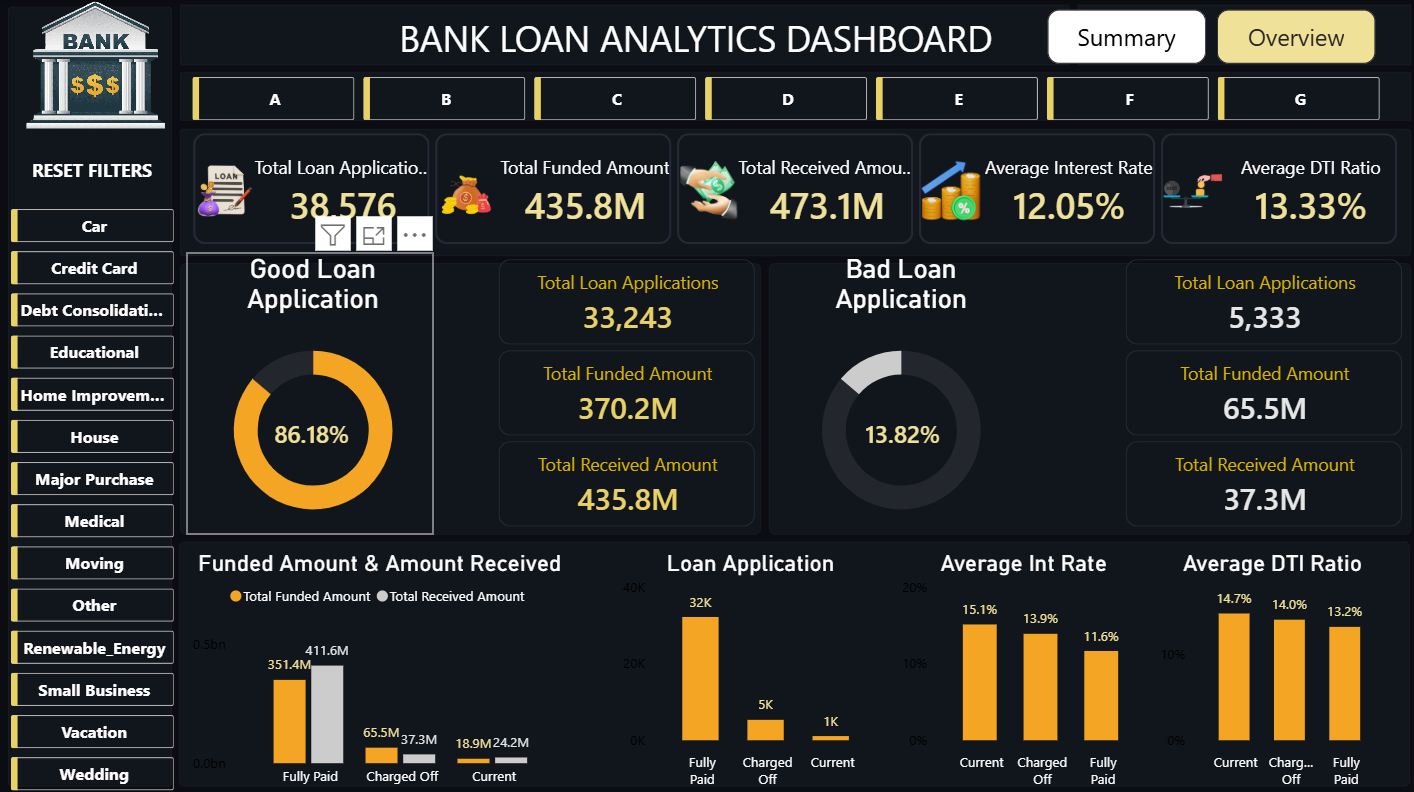

The dashboard page shown, as its layout file describes it:
{"tool":"powerbi","page":{"name":"Summary","canvas":[1280,720],"ordinal":0},"visuals":[{"type":"cardVisual","fields":{"Data":["financial_loan.Total Loan Applications","financial_loan.Total Funded Amount","financial_loan.Total Received Amount","financial_loan.Average Interest Rate","financial_loan.Average DTI Ratio"]},"box":[169.6,115.1,1100.3,112.2],"z":0},{"type":"donutChart","title":"Good Loan Application","fields":{"Category":["financial_loan.Good vs Bad Loan"],"Y":["financial_loan.Total Loan Applications"]},"box":[169.6,228.6,222.6,254.4],"z":1000},{"type":"donutChart","title":"Bad Loan Application","fields":{"Category":["financial_loan.Good vs Bad Loan"],"Y":["financial_loan.Total Loan Applications"]},"box":[701.1,228.6,222.6,254.4],"z":2000},{"type":"cardVisual","fields":{"Data":["financial_loan.Good Loan %"]},"box":[231.7,361.9,101.5,56],"z":3000},{"type":"cardVisual","fields":{"Data":["financial_loan.Bad Loan %"]},"box":[763.2,361.9,101.5,56],"z":4000},{"type":"cardVisual","fields":{"Data":["financial_loan.Total Loan Applications","financial_loan.Total Funded Amount","financial_loan.Total Received Amount"],"Rows":["financial_loan.Good vs Bad Loan"]},"box":[404.3,228.6,283.2,254.4],"z":5000},{"type":"cardVisual","fields":{"Data":["financial_loan.Total Loan Applications","financial_loan.Total Funded Amount","financial_loan.Total Received Amount"],"Rows":["financial_loan.Good vs Bad Loan"]},"box":[981.2,228.6,289.2,254.4],"z":6000},{"type":"clusteredColumnChart","title":"Funded Amount & Amount Received","fields":{"Category":["financial_loan.LOAN_STATUS"],"Y":["financial_loan.Total Funded Amount","financial_loan.Total Received Amount"]},"box":[169.6,496.7,348.3,222.6],"z":7000},{"type":"clusteredColumnChart","title":"Loan Application","fields":{"Category":["financial_loan.LOAN_STATUS"],"Y":["financial_loan.Total Loan Applications"]},"box":[557.2,496.7,240.8,222.6],"z":8000},{"type":"clusteredColumnChart","title":"Average Int Rate","fields":{"Category":["financial_loan.LOAN_STATUS"],"Y":["financial_loan.Average Interest Rate"]},"box":[808.6,496.7,230.2,222.6],"z":9000},{"type":"clusteredColumnChart","title":"Average DTI Ratio","fields":{"Category":["financial_loan.LOAN_STATUS"],"Y":["financial_loan.Average DTI Ratio"]},"box":[1040.3,496.7,213.5,222.6],"z":10000},{"type":"image","box":[7.6,1.5,157.5,115.1],"z":11000},{"type":"advancedSlicerVisual","fields":{"Values":["financial_loan.PURPOSE"]},"box":[6.1,183.2,157.5,536],"z":12000},{"type":"advancedSlicerVisual","fields":{"Values":["financial_loan.GRADE"]},"box":[169.6,65.1,1084.2,50],"z":13000},{"type":"actionButton","box":[7.6,133.3,151.4,39.4],"z":14000},{"type":"textbox","box":[333.1,7.6,590.5,57.5],"z":15000},{"type":"pageNavigator","box":[938.8,9.1,302.8,50],"z":16000}]}

Visuals, with their boxes in screenshot pixels (x1, y1, x2, y2), scaled from the page's 1280x720 canvas onto the 1414x792 screenshot:
cardVisual - financial_loan.Total Loan Applications x financial_loan.Total Funded Amount: box(187, 127, 1403, 250)
"Good Loan Application" donutChart: box(187, 251, 433, 531)
"Bad Loan Application" donutChart: box(774, 251, 1020, 531)
cardVisual - financial_loan.Good Loan %: box(256, 398, 368, 460)
cardVisual - financial_loan.Bad Loan %: box(843, 398, 955, 460)
cardVisual - financial_loan.Total Loan Applications x financial_loan.Total Funded Amount: box(447, 251, 759, 531)
cardVisual - financial_loan.Total Loan Applications x financial_loan.Total Funded Amount: box(1084, 251, 1403, 531)
"Funded Amount & Amount Received" clusteredColumnChart: box(187, 546, 572, 791)
"Loan Application" clusteredColumnChart: box(616, 546, 882, 791)
"Average Int Rate" clusteredColumnChart: box(893, 546, 1148, 791)
"Average DTI Ratio" clusteredColumnChart: box(1149, 546, 1385, 791)
image: box(8, 2, 182, 128)
advancedSlicerVisual - financial_loan.PURPOSE: box(7, 202, 181, 791)
advancedSlicerVisual - financial_loan.GRADE: box(187, 72, 1385, 127)
actionButton: box(8, 147, 176, 190)
textbox: box(368, 8, 1020, 72)
pageNavigator: box(1037, 10, 1372, 65)
